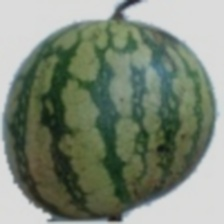watermelon: (21, 33, 192, 213)
